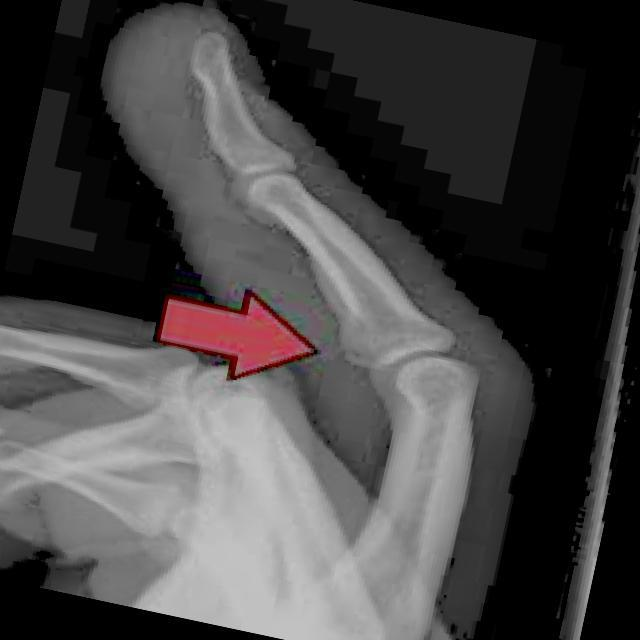Avlusion Fracture: (330, 320, 381, 387)
